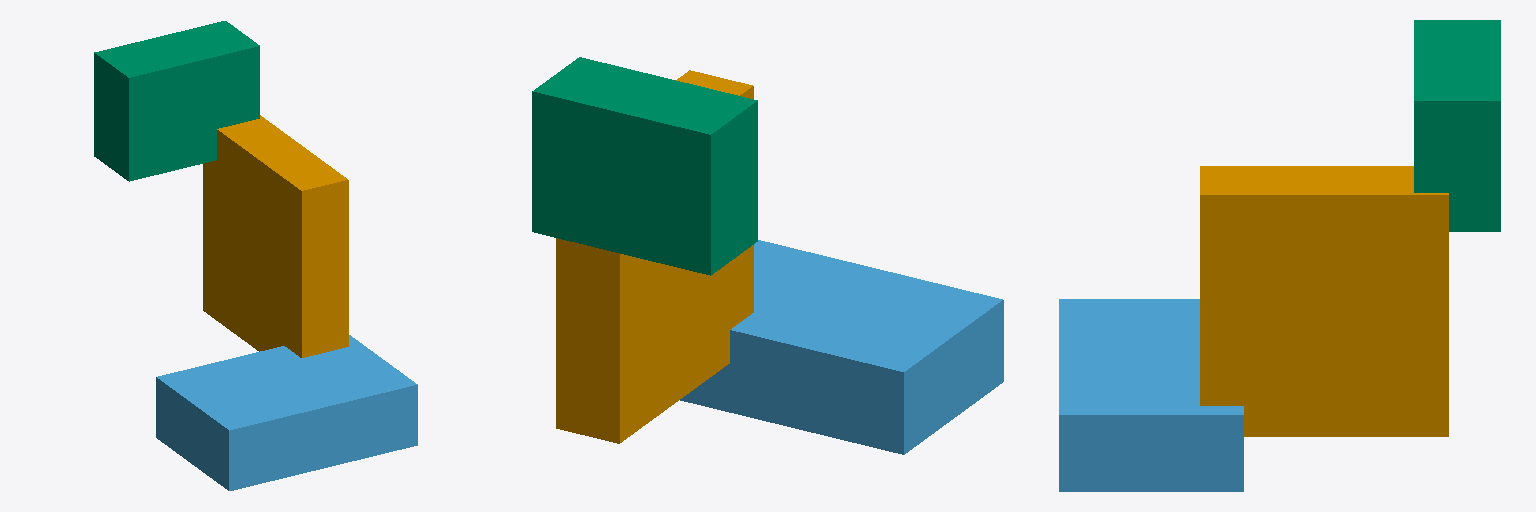
URDF robot description (desklamp_estimated):
<?xml version="1.0" ?>
<robot name="desklamp_estimated">
  <!--
     부위별 밀도를 로봇 측정으로 추정해 생성한 sim-ready 자산.
     가정: 각 부위 내부 밀도 균일, 측정 중 관절 고정.
     추정 밀도 [kg/m^3] (95% 구간):
       link_3: 373.8 +/- 2.4
       link_2: 2390.1 +/- 0.8
       link_1: 190.5 +/- 0.4
  -->
  <link name="link_3">
    <visual>
      <origin xyz="-0.022877 0.104836 0.115039"/>
      <geometry>
        <box size="0.070134 0.255722 0.273918"/>
      </geometry>
    </visual>
    <collision>
      <origin xyz="-0.022877 0.104836 0.115039"/>
      <geometry>
        <box size="0.070134 0.255722 0.273918"/>
      </geometry>
    </collision>
    <inertial>
      <origin xyz="-0.022877 0.104836 0.115039"/>
      <mass value="0.082086"/>
      <inertia ixx="0.000960574" ixy="0.000000000" ixz="0.000000000" iyy="0.000546895" iyz="0.000000000" izz="0.000480973"/>
    </inertial>
  </link>
  <link name="link_2">
    <visual>
      <origin xyz="0.174167 0.215217 -0.076682"/>
      <geometry>
        <box size="0.281720 0.189774 0.087037"/>
      </geometry>
    </visual>
    <collision>
      <origin xyz="0.174167 0.215217 -0.076682"/>
      <geometry>
        <box size="0.281720 0.189774 0.087037"/>
      </geometry>
    </collision>
    <inertial>
      <origin xyz="0.174167 0.215217 -0.076682"/>
      <mass value="0.396025"/>
      <inertia ixx="0.001438544" ixy="0.000000000" ixz="0.000000000" iyy="0.002869245" iyz="0.000000000" izz="0.003807778"/>
    </inertial>
  </link>
  <link name="link_1">
    <visual>
      <origin xyz="-0.046702 0.019600 0.036277"/>
      <geometry>
        <box size="0.196562 0.089818 0.148274"/>
      </geometry>
    </visual>
    <collision>
      <origin xyz="-0.046702 0.019600 0.036277"/>
      <geometry>
        <box size="0.196562 0.089818 0.148274"/>
      </geometry>
    </collision>
    <inertial>
      <origin xyz="-0.046702 0.019600 0.036277"/>
      <mass value="0.084003"/>
      <inertia ixx="0.000210375" ixy="0.000000000" ixz="0.000000000" iyy="0.000424369" iyz="0.000000000" izz="0.000326940"/>
    </inertial>
  </link>
  <joint name="joint_2_3" type="revolute">
    <parent link="link_3"/>
    <child link="link_2"/>
    <origin xyz="-0.282939 -0.288205 0.046213"/>
    <axis xyz="-0.3 0.7 -0.7"/>
    <limit lower="-1.570000" upper="1.570000" effort="10" velocity="1"/>
  </joint>
  <joint name="joint_3_1" type="revolute">
    <parent link="link_3"/>
    <child link="link_1"/>
    <origin xyz="-0.044564 0.221727 0.245335"/>
    <axis xyz="-0.4 0.7 -0.6"/>
    <limit lower="-1.570000" upper="1.570000" effort="10" velocity="1"/>
  </joint>
</robot>

--- Render facts (derived) ---
3 views of the same robot in one strip: view 1: azimuth 30°, elevation 25°; view 2: azimuth 150°, elevation 25°; view 3: azimuth 270°, elevation 25° (orthographic).
Robot: desklamp_estimated — 3 links, 2 joints (2 revolute); root link link_3; default pose: every joint at zero.
Visible links, largest first — view 1: link_3, link_2, link_1; view 2: link_2, link_1, link_3; view 3: link_3, link_2, link_1.
Boxes of the visible links, x1,y1,x2,y2 form: link_3: [203, 115, 348, 357]; link_2: [156, 335, 417, 490]; link_1: [94, 21, 259, 181]; link_2: [680, 240, 1003, 454]; link_1: [532, 57, 757, 275]; link_3: [556, 70, 753, 443]; link_3: [1200, 166, 1448, 436]; link_2: [1059, 299, 1243, 491]; link_1: [1414, 20, 1500, 231].
Bounding box of the posed robot: 0.2817 × 0.4541 × 0.4297 m (x, y, z).
Geometry: primitives only (box / cylinder / sphere), no mesh files.
